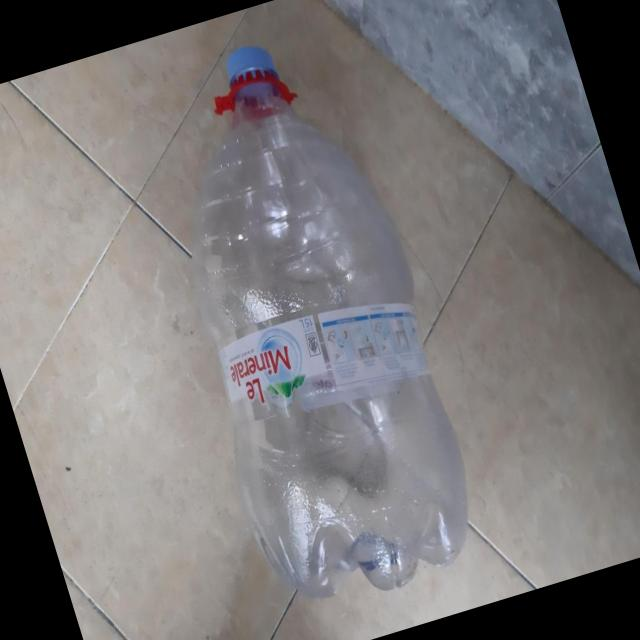Galon: (113, 16, 500, 624)
